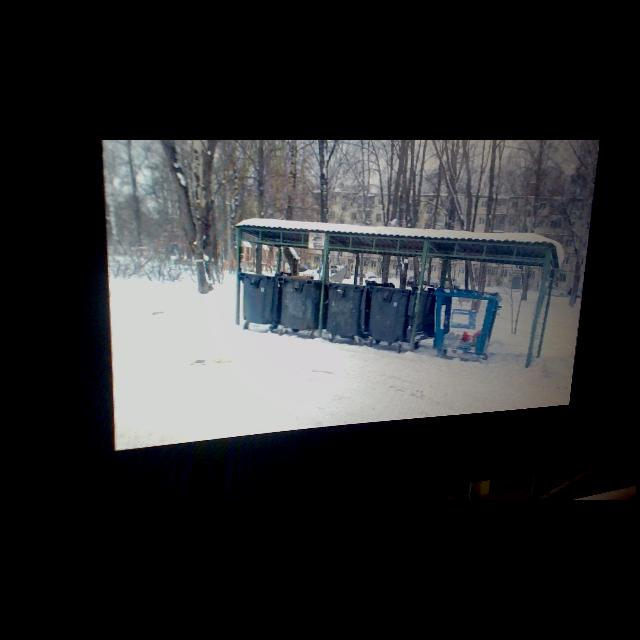Trash_Can_Empty: (434, 286, 499, 355), (369, 283, 411, 342), (240, 270, 281, 324), (327, 281, 364, 337), (281, 279, 321, 330)
